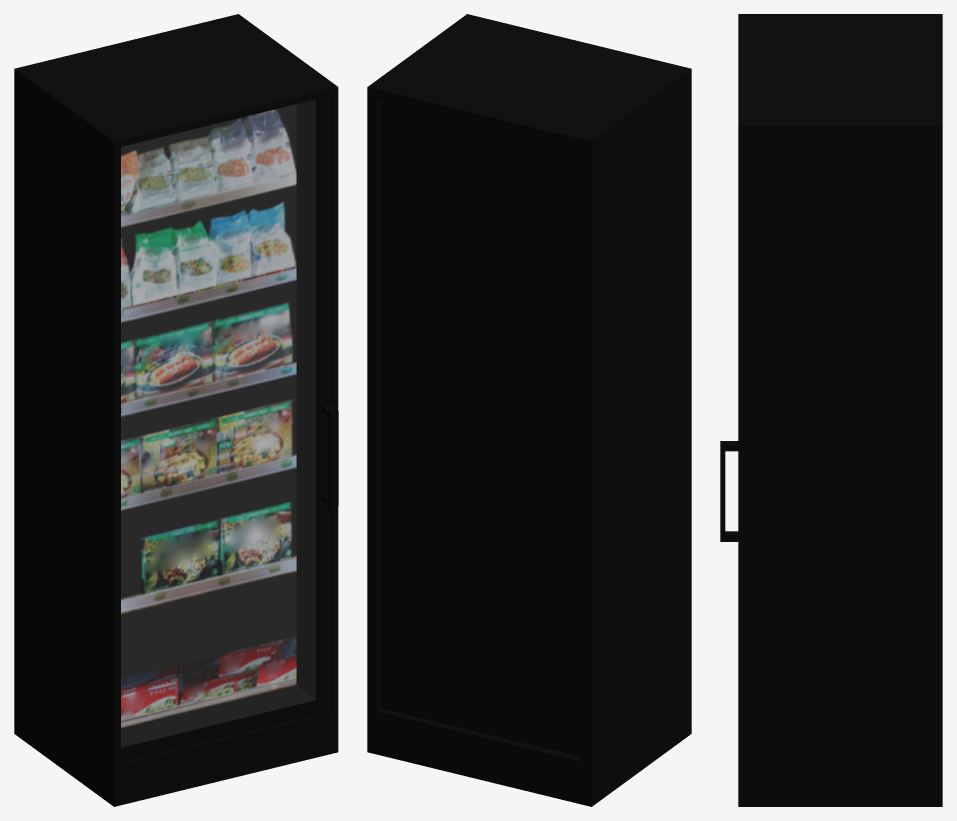
Rendered from Commercial fridge 6.fbx.
The picture shows the model from 3 angles, left to right: view 1: azimuth 30°, elevation 25°; view 2: azimuth 150°, elevation 25°; view 3: azimuth 270°, elevation 25°; orthographic projection. The views are drawn at different scales.
Visible parts, largest first — view 1: commercial fridge 6; view 2: commercial fridge 6; view 3: commercial fridge 6.
Boxes of the visible parts, box(x1,y1,x2,y2) form: commercial fridge 6: box(14, 14, 338, 806); commercial fridge 6: box(367, 14, 691, 806); commercial fridge 6: box(720, 14, 942, 806).
Size of the model in its own units: 65.15 by 185 by 54.58.
3 materials, 1 textured.
